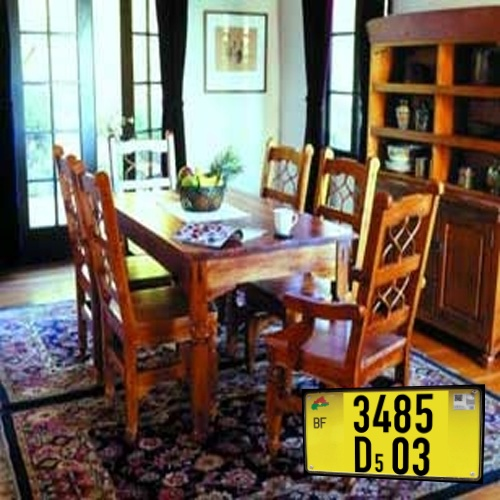plate: (287, 379, 497, 487)
